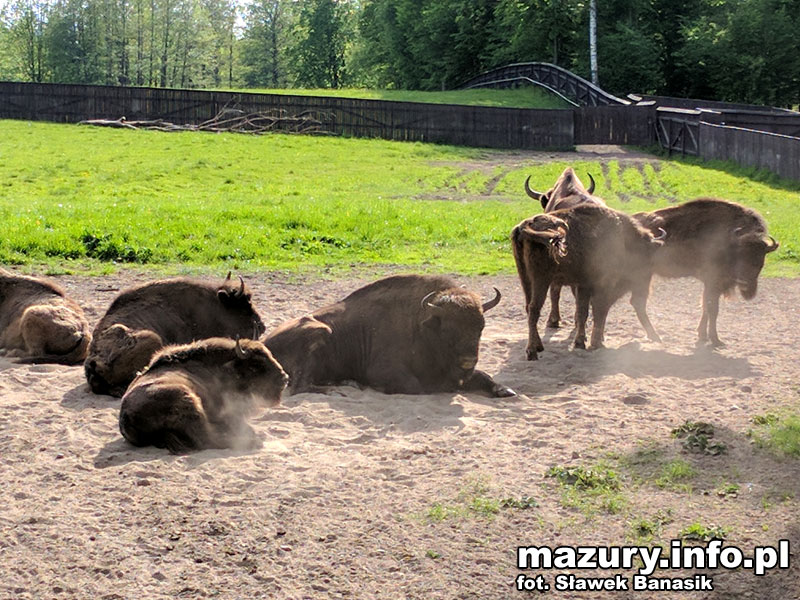zubr: (306, 239, 521, 428), (507, 161, 679, 360), (85, 255, 284, 415), (124, 322, 301, 470), (636, 187, 779, 328), (3, 257, 98, 390)
